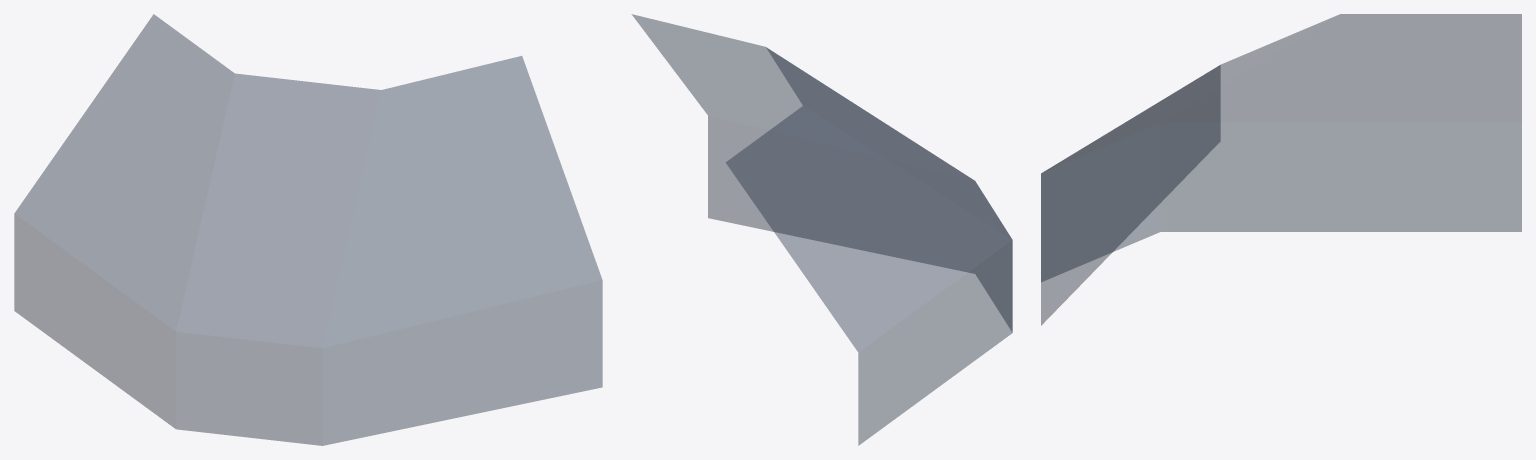
File: windows.glb
3 views of the same model, side by side, from view 1: azimuth 30°, elevation 25°; view 2: azimuth 150°, elevation 25°; view 3: azimuth 270°, elevation 25° (orthographic). The views are drawn at different scales.
Parts seen in each view (by area): view 1: Windows; view 2: Windows; view 3: Windows.
Part boxes in pixels (x1,y1,x2,y2): Windows: [14, 14, 602, 445]; Windows: [632, 14, 1012, 445]; Windows: [1041, 14, 1521, 325].
Bounding box in the file's own units: 7.99 × 5.59 × 7.99.
